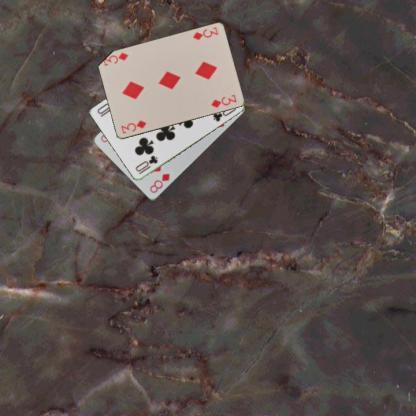10c: (133, 153, 159, 176)
3d: (190, 24, 219, 42), (118, 118, 147, 135)
8d: (147, 171, 171, 195)
